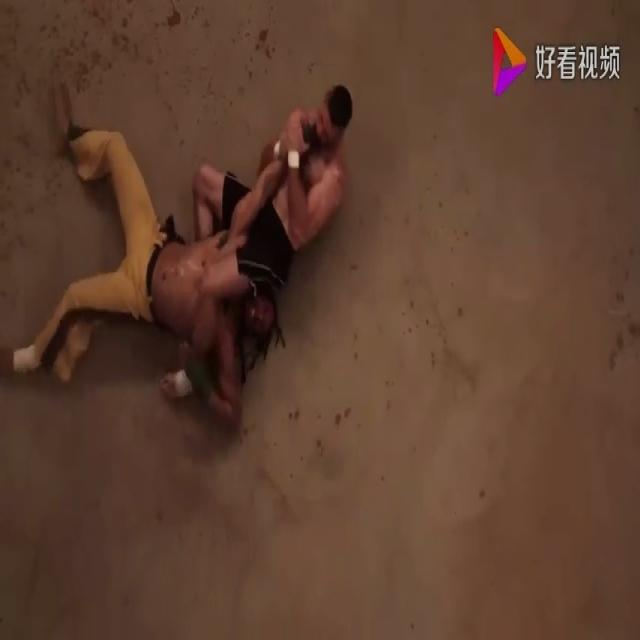fight: (4, 75, 356, 428)
